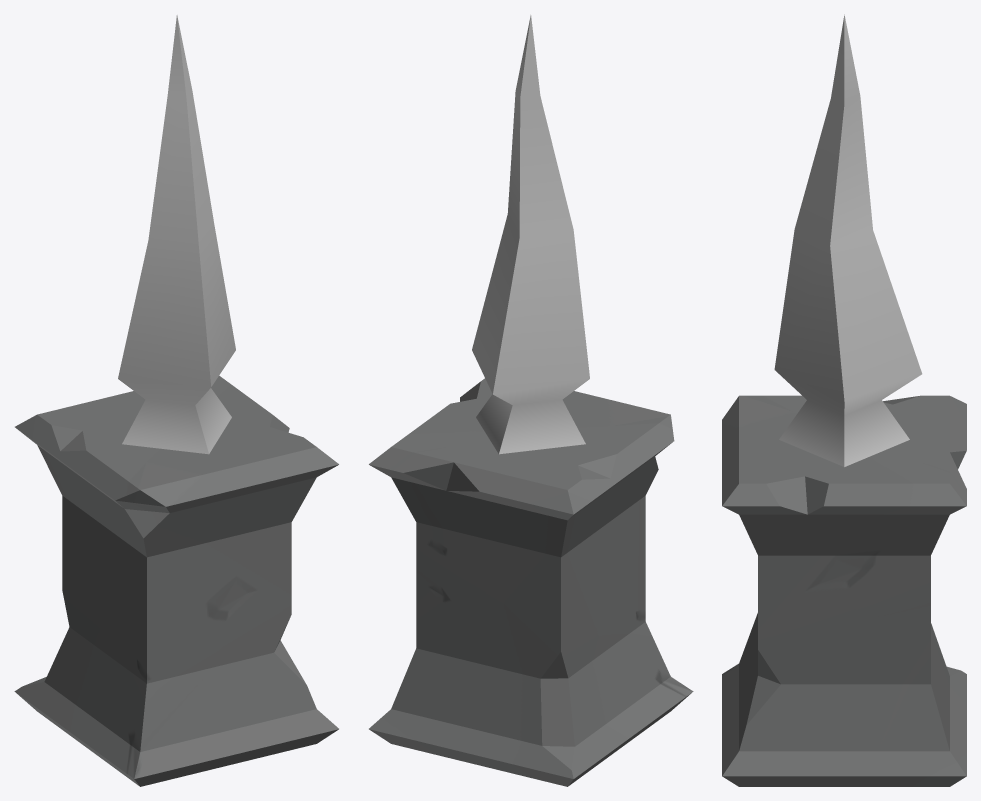
Rendered from SM_Bld_L_Pillar_Top_03.fbx.
The picture shows the model from 3 angles, left to right: view 1: azimuth 30°, elevation 25°; view 2: azimuth 150°, elevation 25°; view 3: azimuth 270°, elevation 25°; orthographic projection. The views are drawn at different scales.
Parts seen in each view (by area): view 1: SM_Bld_L_Pillar_Top_03; view 2: SM_Bld_L_Pillar_Top_03; view 3: SM_Bld_L_Pillar_Top_03.
Boxes of the visible parts, x1,y1,x2,y2 form: SM_Bld_L_Pillar_Top_03: [14, 15, 338, 786]; SM_Bld_L_Pillar_Top_03: [369, 15, 693, 786]; SM_Bld_L_Pillar_Top_03: [722, 14, 966, 786].
Size of the model in its own units: 43.68 by 145 by 44.14.
